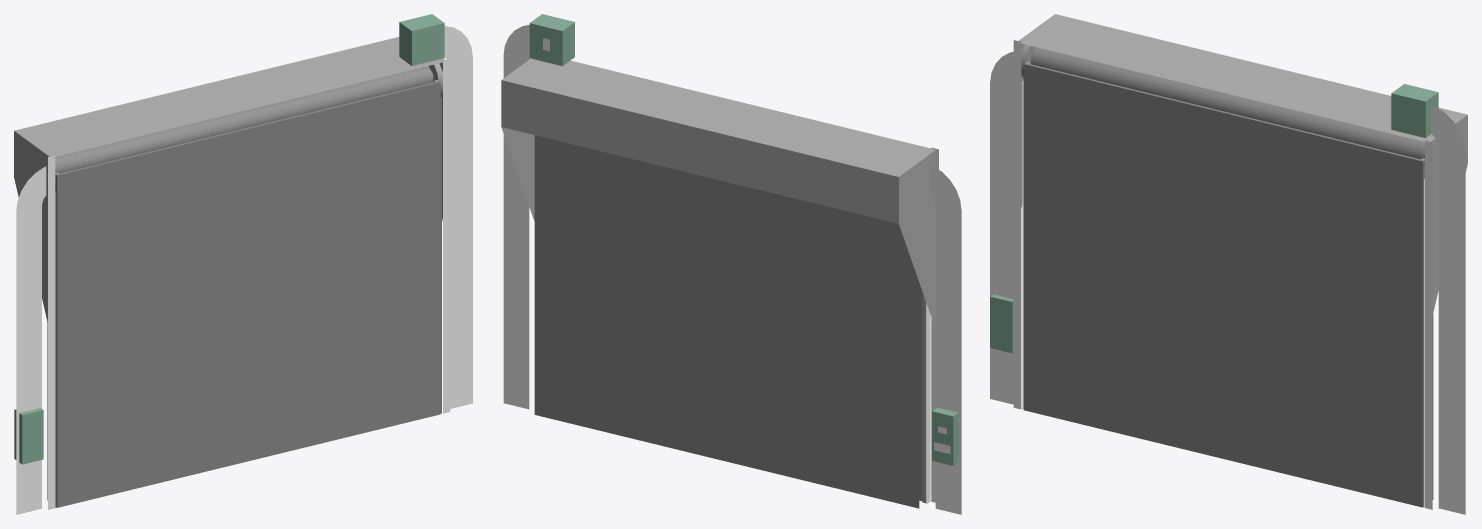
File: s_wh_garage_closed.dae
The picture shows the model from 3 angles, left to right: view 1: azimuth 30°, elevation 25°; view 2: azimuth 150°, elevation 25°; view 3: azimuth 330°, elevation 25°; orthographic projection. The views are drawn at different scales.
Visible parts, largest first — view 1: s_wh_garage_closed_L120; view 2: Colmesh_s_wh_garage_closed-1, s_wh_garage_closed_L120, s_wh_garage_closed_L250; view 3: s_wh_garage_closed_L120.
Part boxes in pixels (left/top/right/bottom): s_wh_garage_closed_L120: left=14, top=14, right=472, bottom=514; Colmesh_s_wh_garage_closed-1: left=534, top=135, right=919, bottom=508; s_wh_garage_closed_L120: left=501, top=14, right=961, bottom=514; s_wh_garage_closed_L250: left=543, top=38, right=950, bottom=503; s_wh_garage_closed_L120: left=990, top=14, right=1467, bottom=514.
Size of the model in its own units: 7.34 by 1.05 by 6.03.
